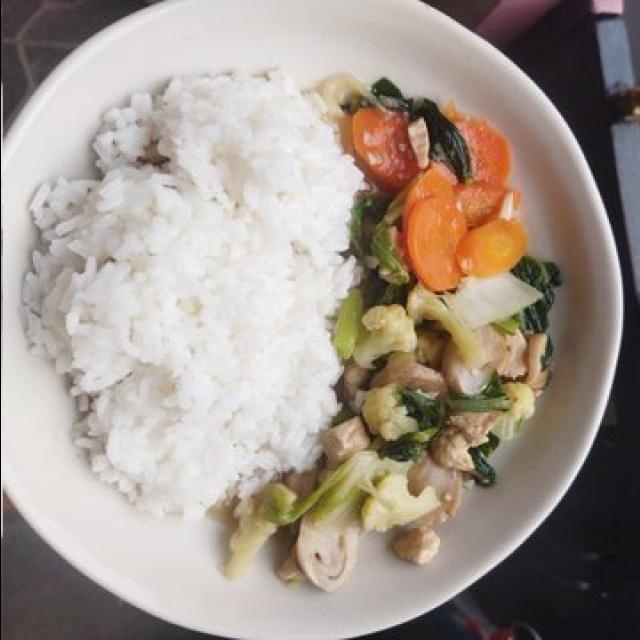capcay: (226, 75, 556, 592)
nasi: (21, 68, 363, 523)
